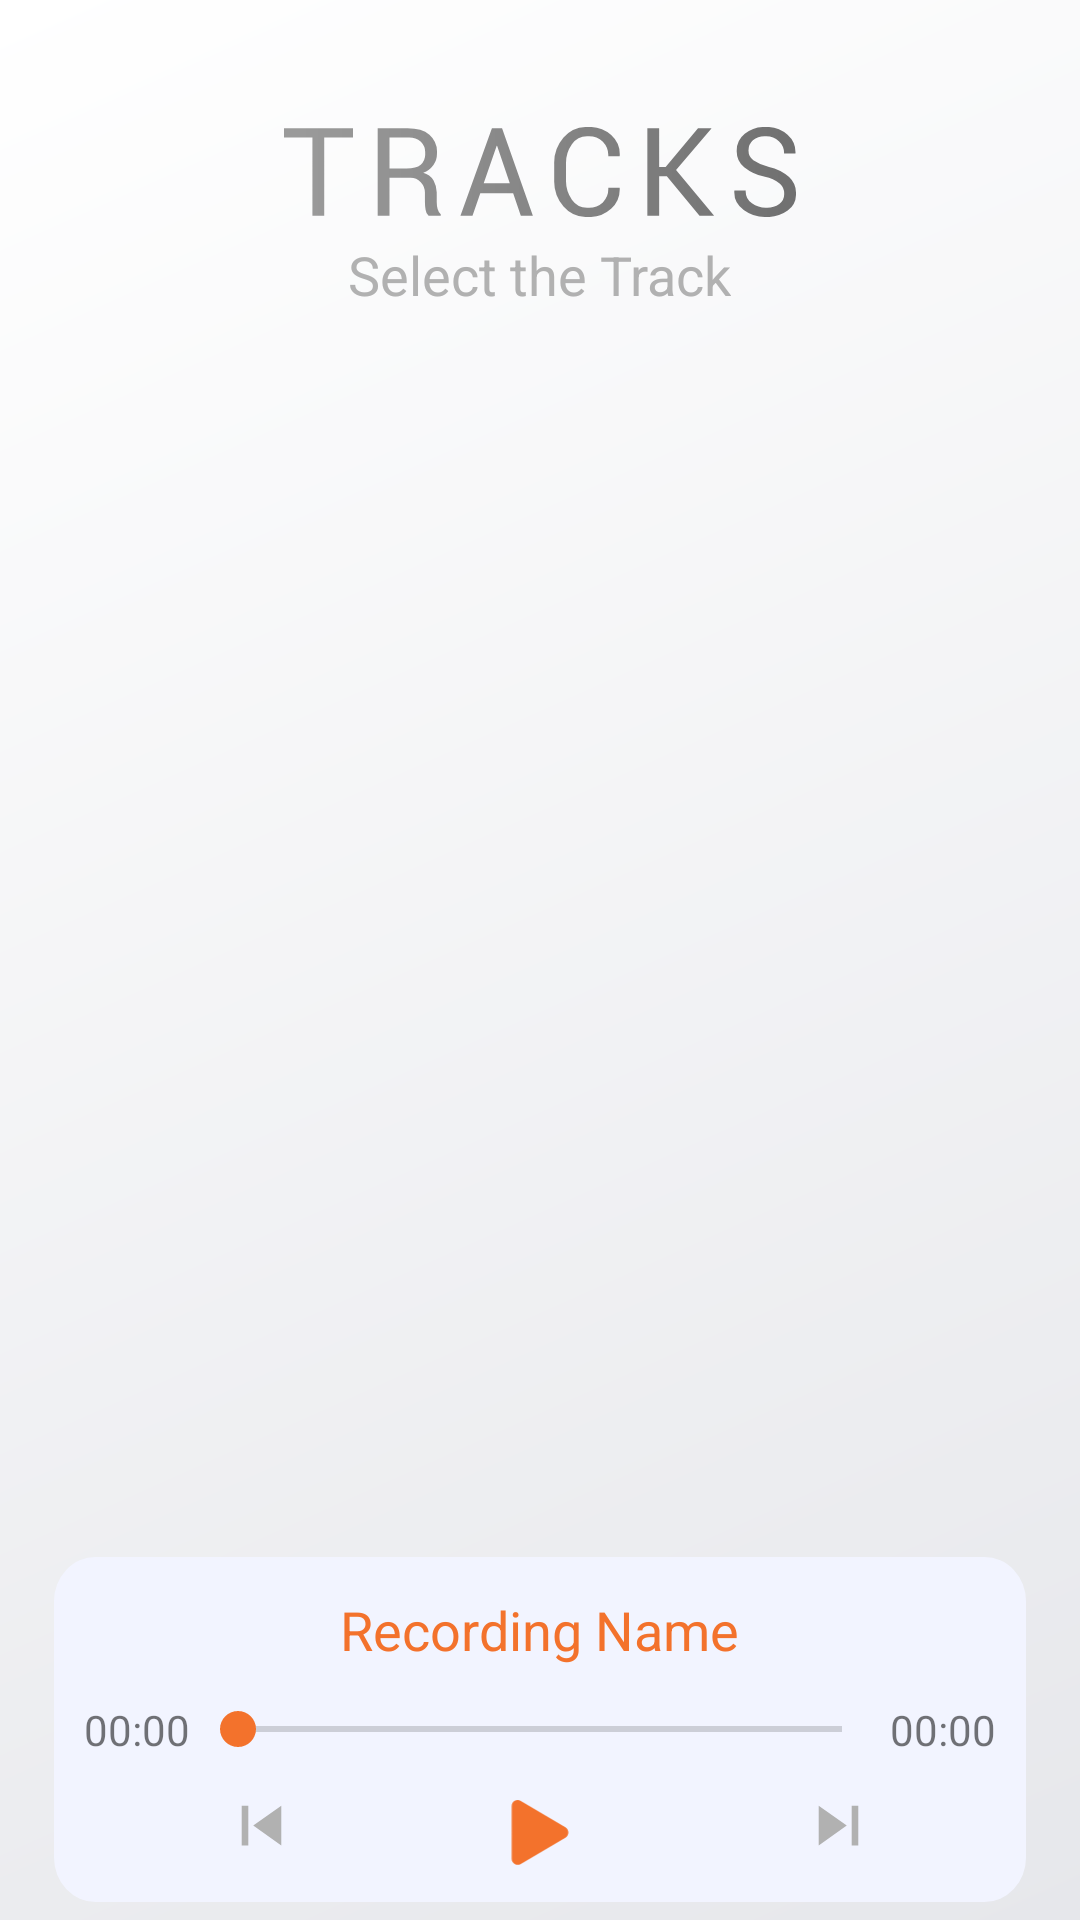

Named icons in this screenshot (1080×1920) and their centers, point (x, y):
recordingbtnplay: point (540, 1832)
view click unclick forward: point (838, 1826)
